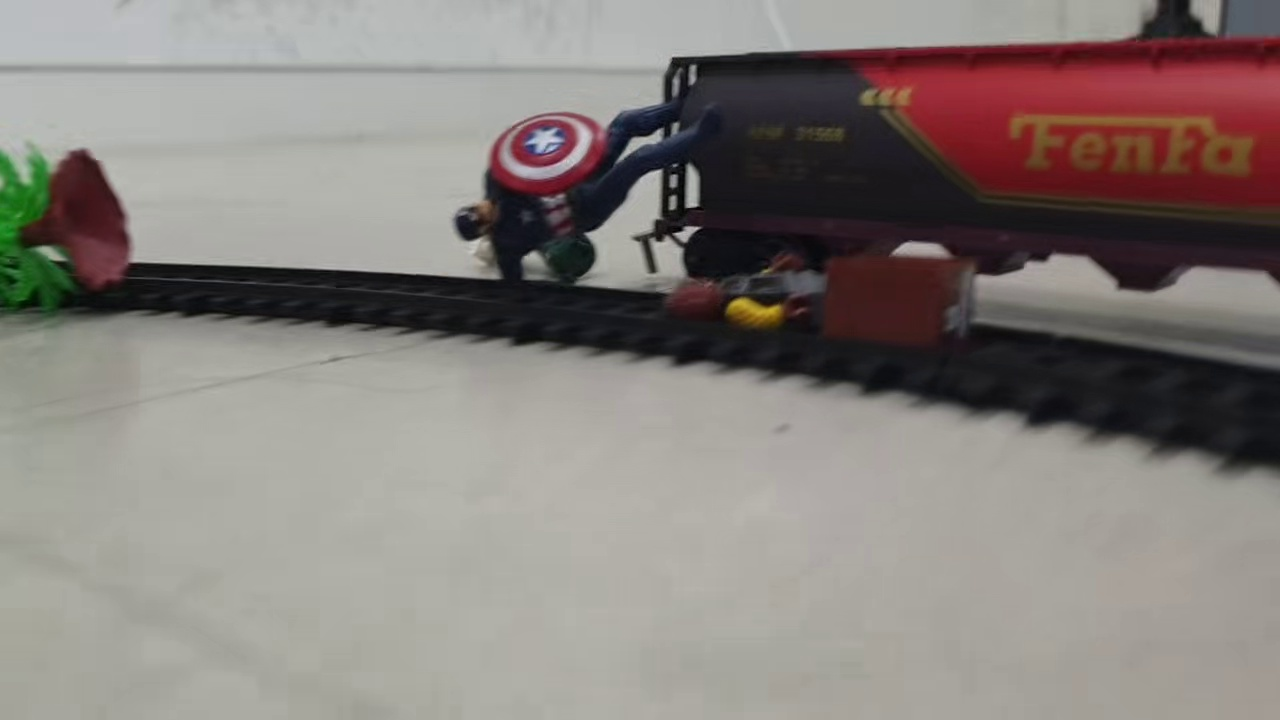box: (823, 250, 981, 355)
people: (450, 69, 730, 278), (665, 251, 831, 337), (469, 225, 598, 282)
tree: (1, 139, 134, 314)
